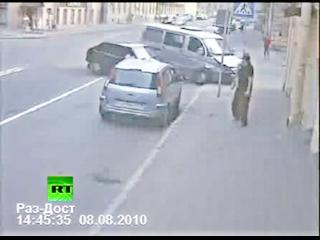Car: (142, 23, 242, 84), (105, 55, 182, 123), (85, 38, 159, 80)
Minor Accident: (91, 25, 239, 84)
